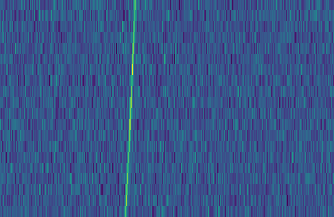signal: (120, 0, 140, 217)
